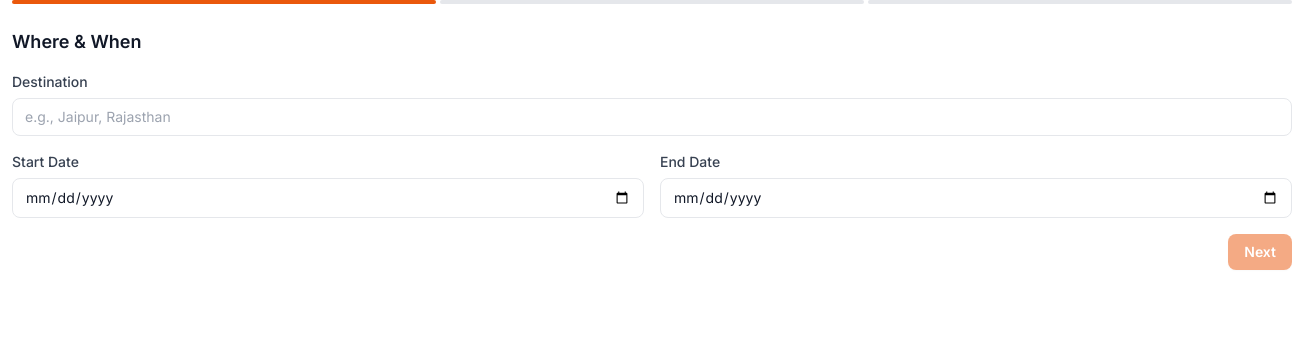
Test: WizardForm › navigates back from step 1 to step 0
Type "Jaipur" into the field labelled "Destination". click: (652, 117)
box: [12,98,1292,136]
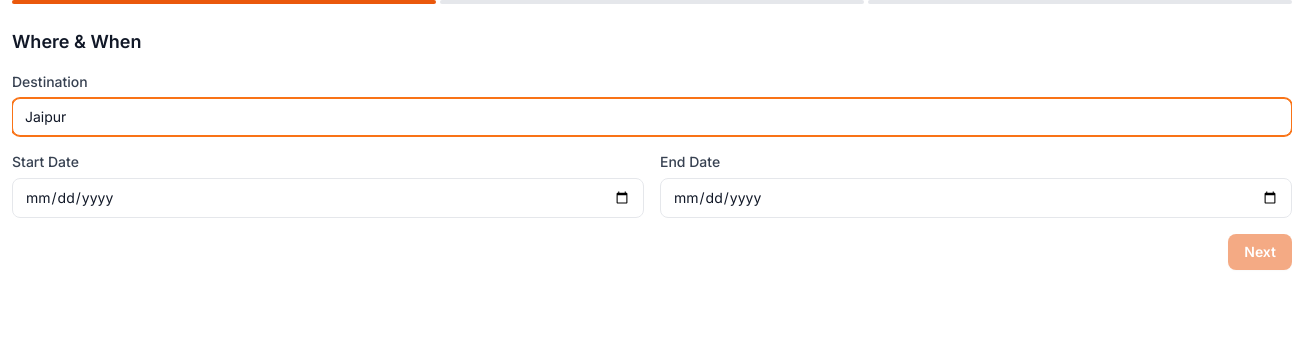
Type "2026-06-01" into the date field labelled "Start Date". click: (328, 198)
box: [12,178,644,218]
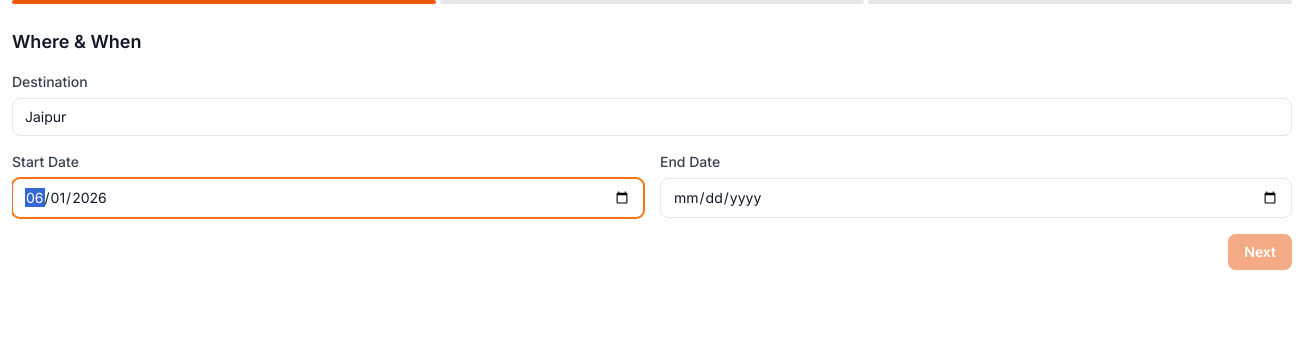
Type "2026-06-03" into the date field labelled "End Date". click: (976, 198)
box: [660,178,1292,218]
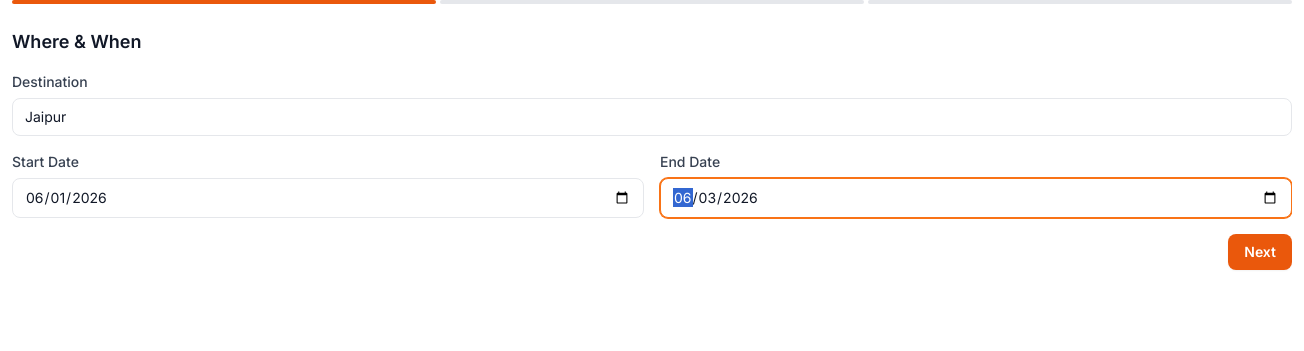
Click the button "Next". click: click(1260, 252)
box: [1228,234,1292,270]
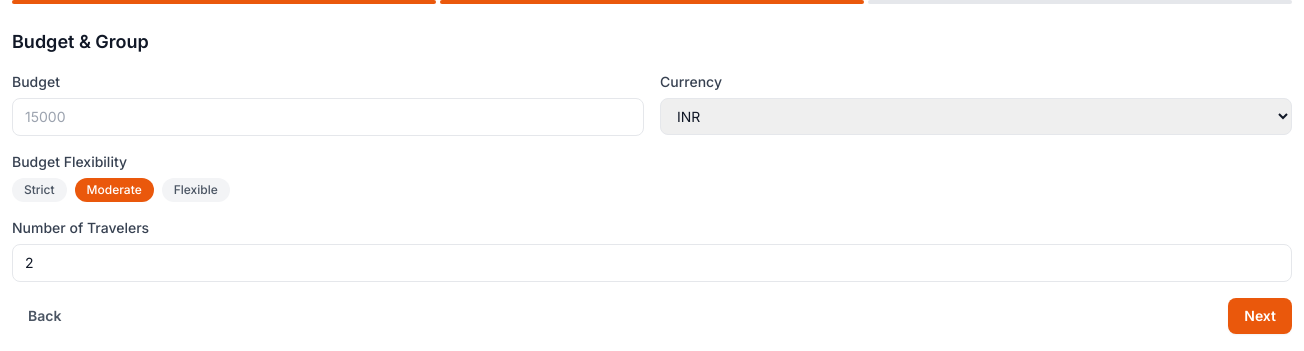
Expected: the heading "Budget & Group" is shown, [12,31,149,52]
Click the button "Back". click: click(45, 316)
box: [12,298,77,334]
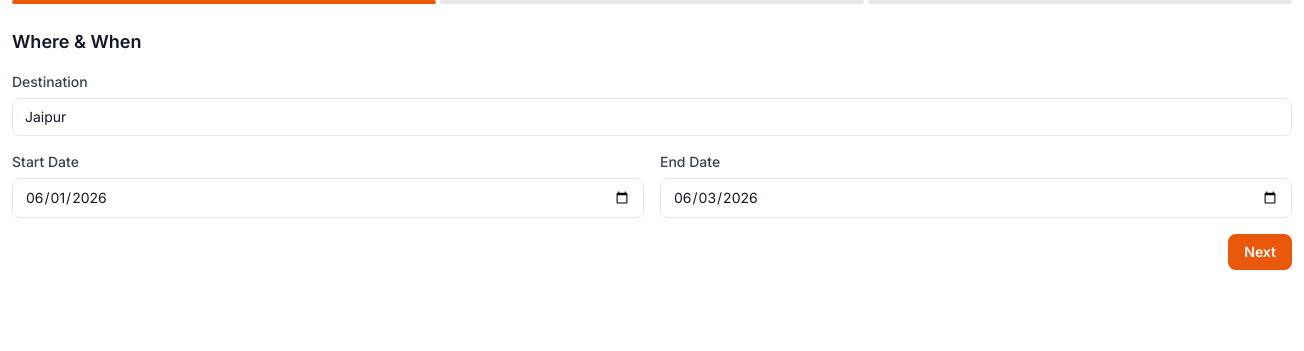
Expected: the heading "Where & When" is shown, [12,31,142,52]
